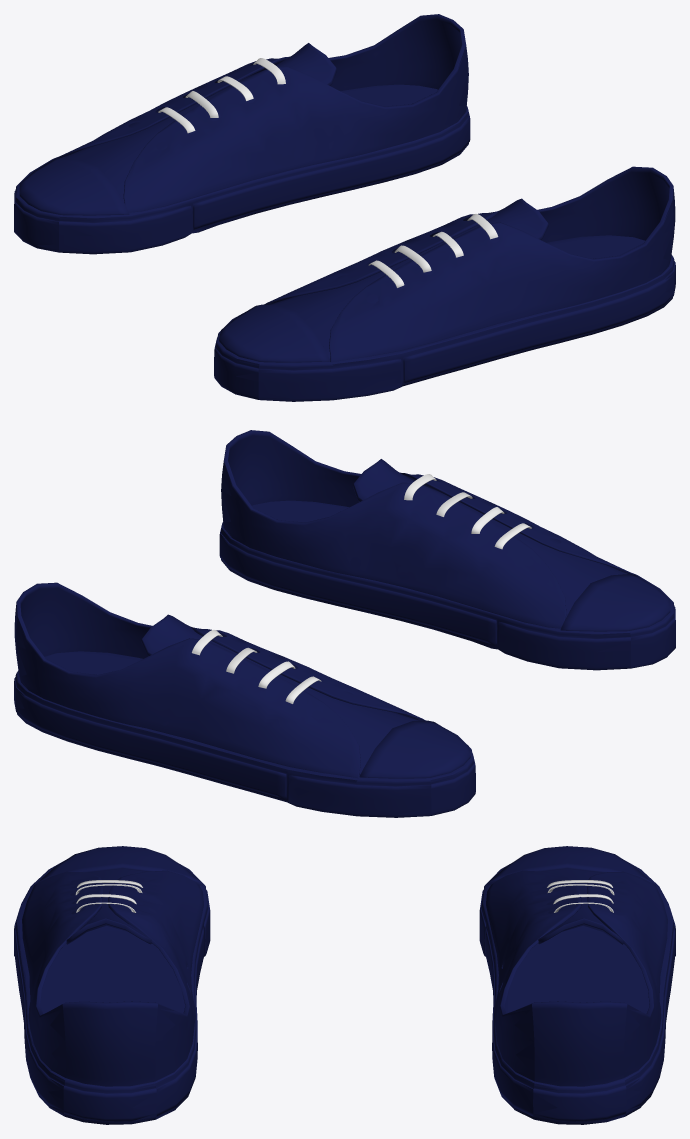
Rendered from blue sneakers.fbx.
3 renders of one model, top to bottom at view 1: azimuth 30°, elevation 25°; view 2: azimuth 150°, elevation 25°; view 3: azimuth 270°, elevation 25°, orthographic. The views are drawn at different scales.
Parts seen in each view (by area): view 1: Box02, pertla3, pertla4, pertla_1, pertla2; view 2: Box02, pertla3, pertla4, pertla_1, pertla2; view 3: Box02, pertla2, pertla4.
Part boxes in pixels (x1,y1,x2,y2): Box02: [14, 14, 675, 401]; pertla3: [185, 91, 431, 272]; pertla4: [158, 107, 404, 287]; pertla_1: [253, 58, 498, 239]; pertla2: [217, 76, 463, 257]; Box02: [14, 430, 675, 817]; pertla3: [258, 507, 504, 688]; pertla4: [285, 523, 531, 703]; pertla_1: [191, 474, 436, 655]; pertla2: [226, 492, 472, 673]; Box02: [14, 846, 675, 1124]; pertla2: [76, 894, 613, 904]; pertla4: [77, 880, 612, 887].
Size of the model in its own units: 261 by 66.38 by 302.
